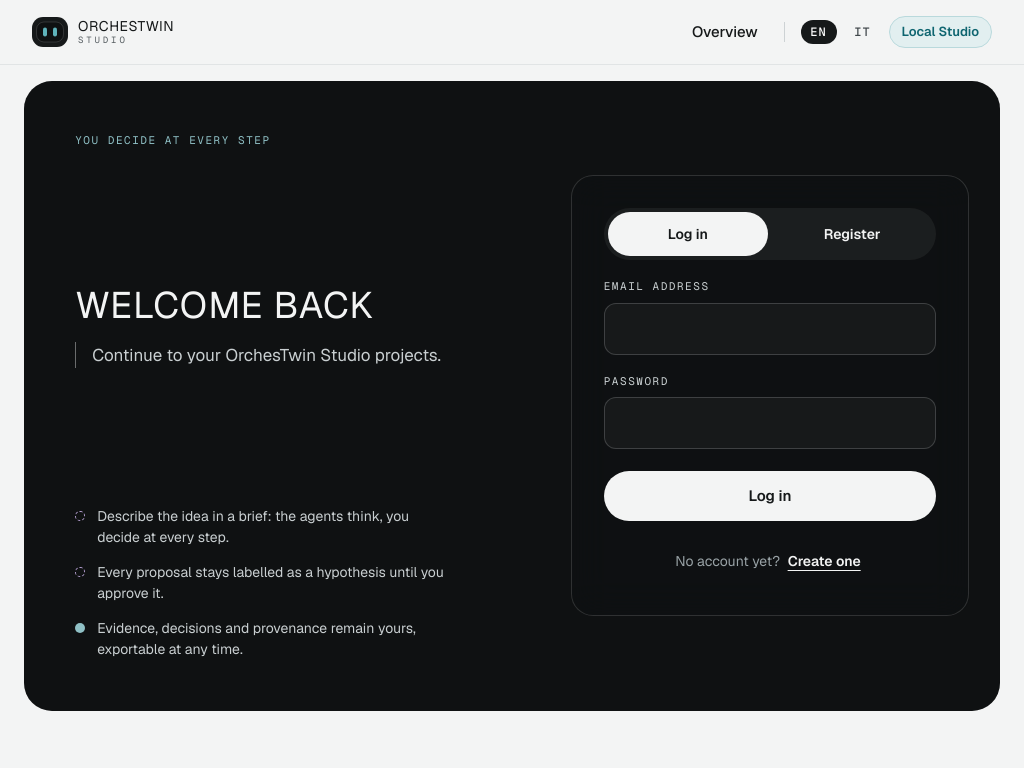
Test case: App › explains on /login in en that a local Studio needs no sign-in
Step 1. Type "owner@example.com" into the field named "email" → (770, 329), box [604,303,936,355]
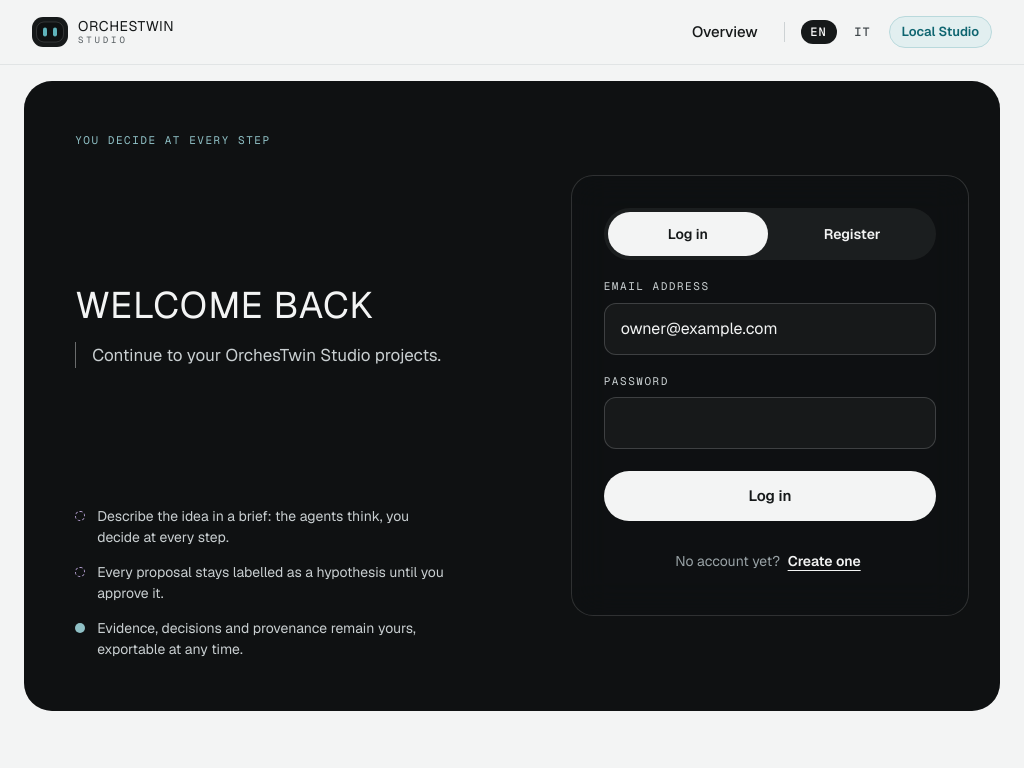
Step 2. Type "Abcdefg1!" into the password field named "password" → (770, 423), box [604,397,936,449]
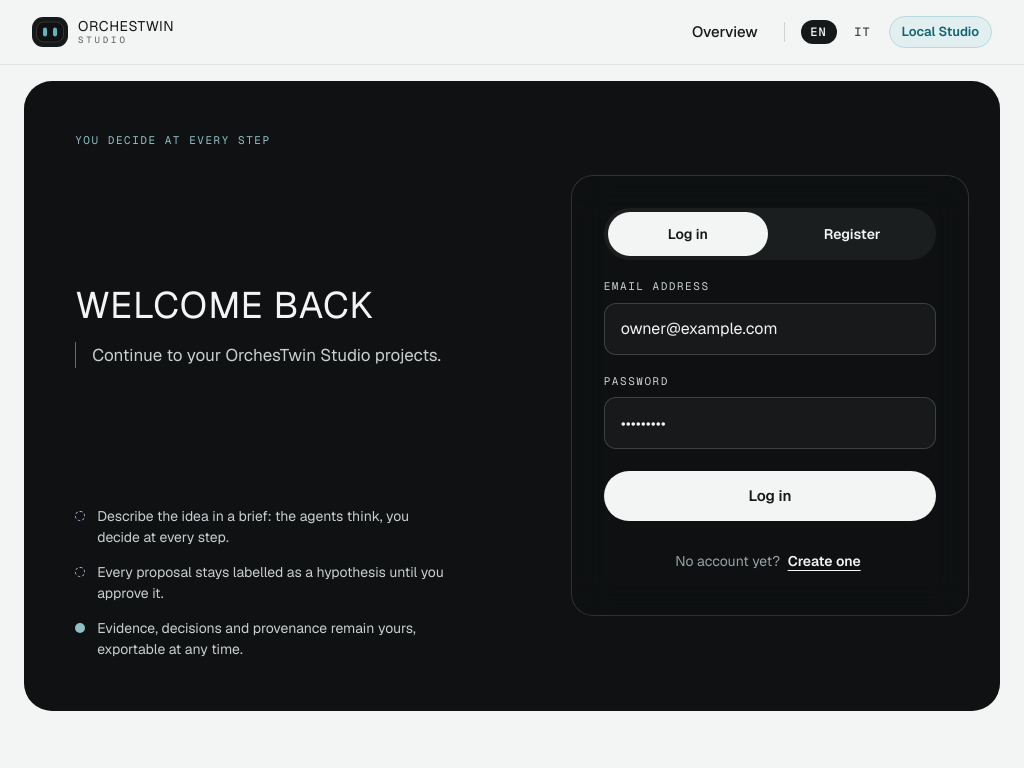
Step 3. Submit the form, box [604,278,936,521]
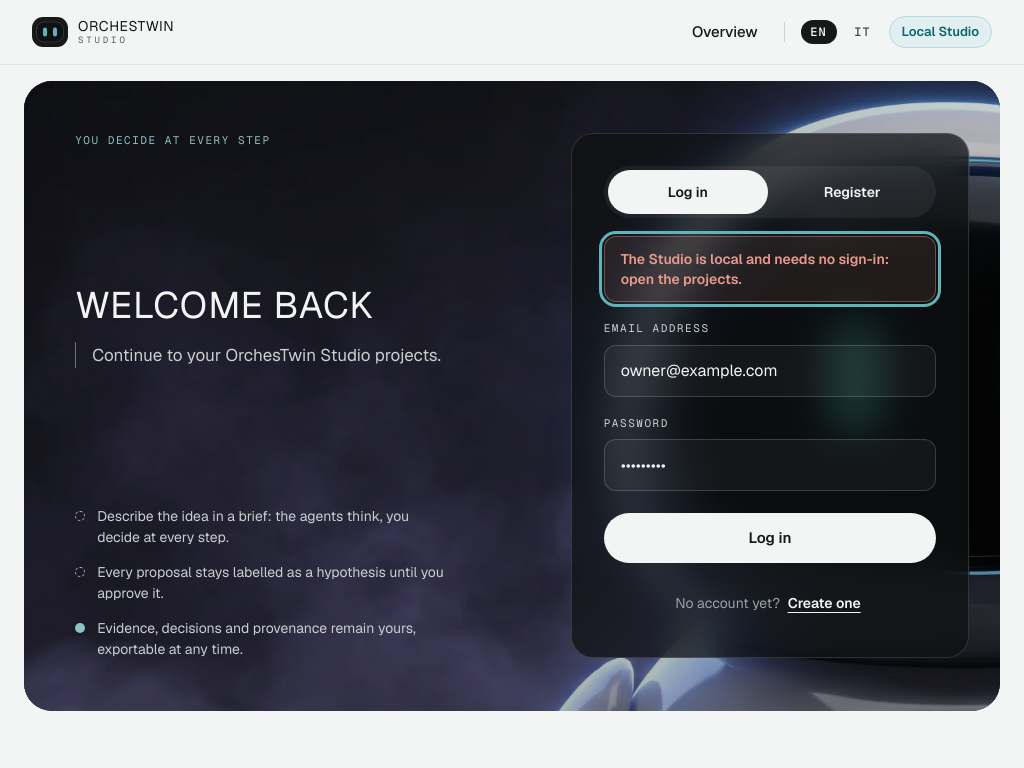
Now the message "The Studio is local and needs no sign-in: open the projects." is shown, box [604,236,936,302]
